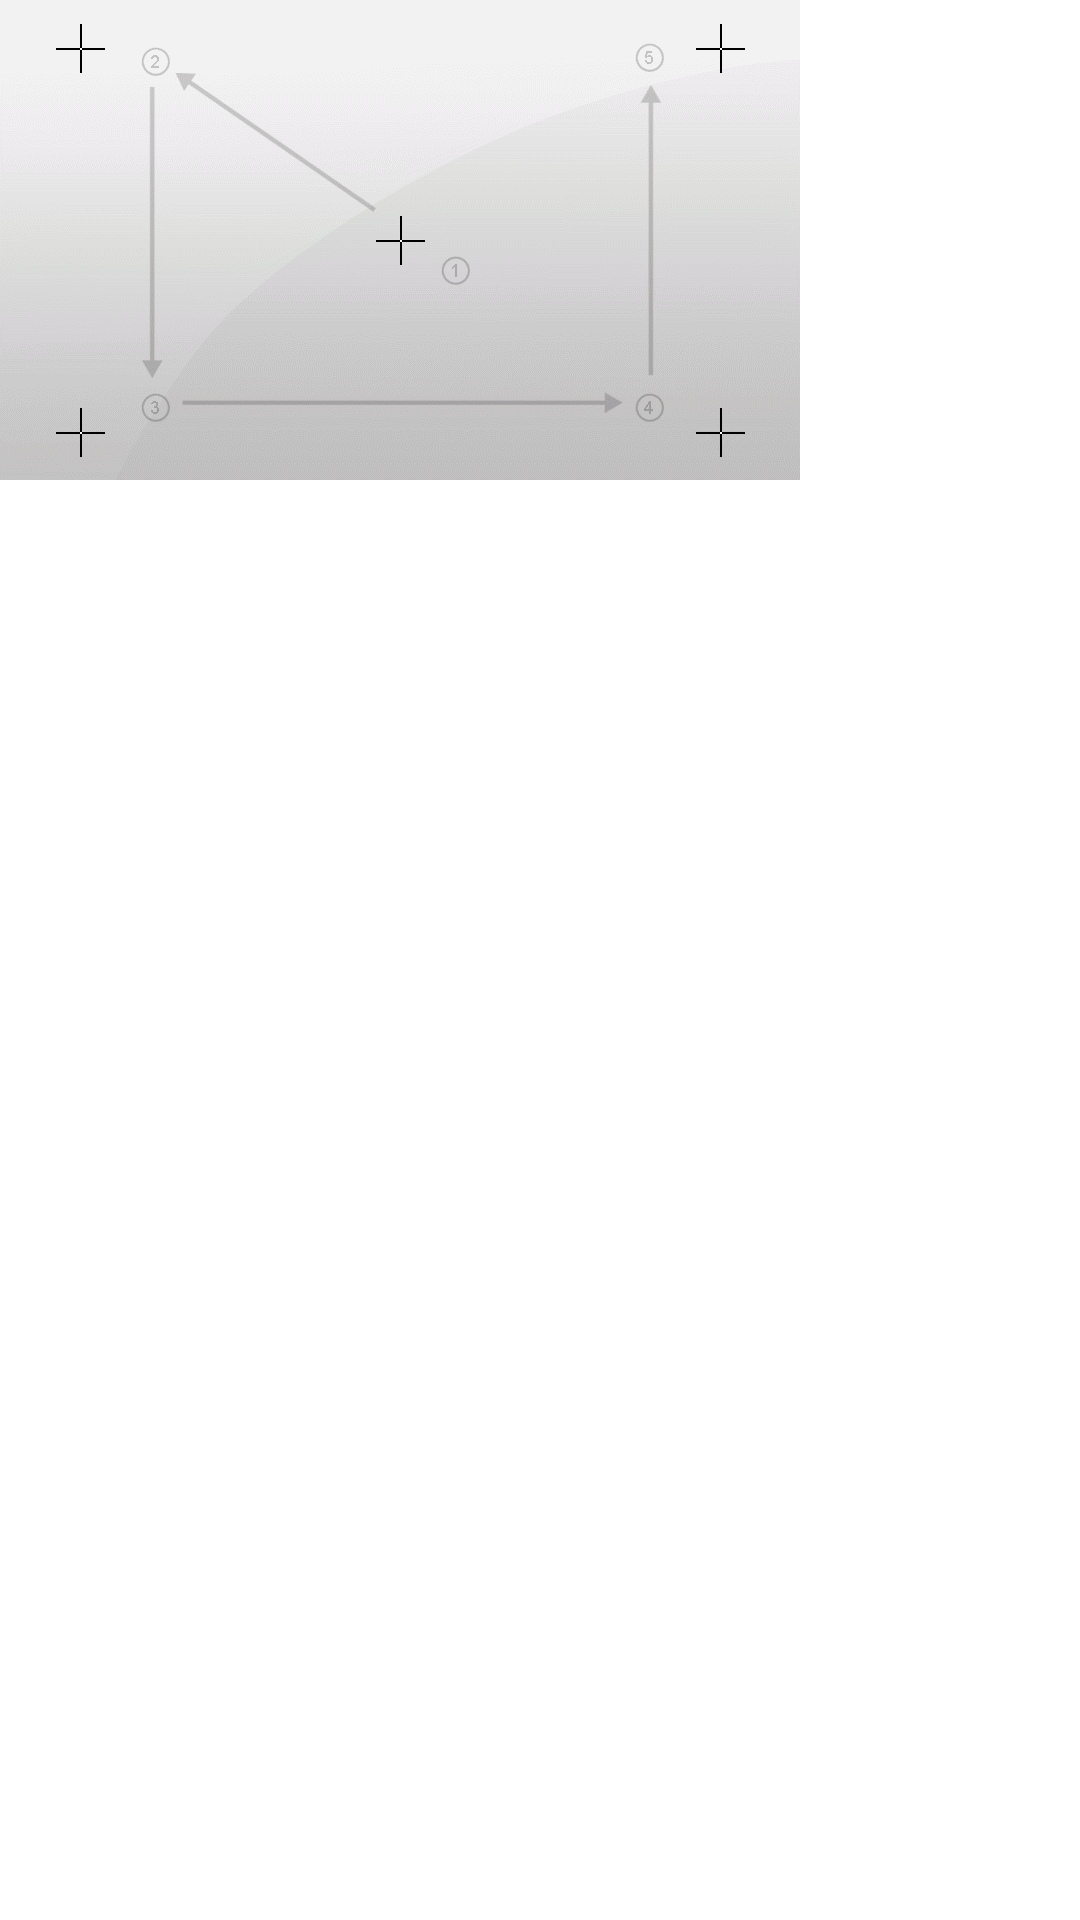

Named icons in this screenshot (1080 × 1920) and their bounding boxes, (x1, y1, x2, y2):
calibrate cross: (56, 24, 105, 73), (696, 24, 745, 73), (376, 216, 425, 265), (56, 408, 105, 457), (696, 408, 745, 457)
